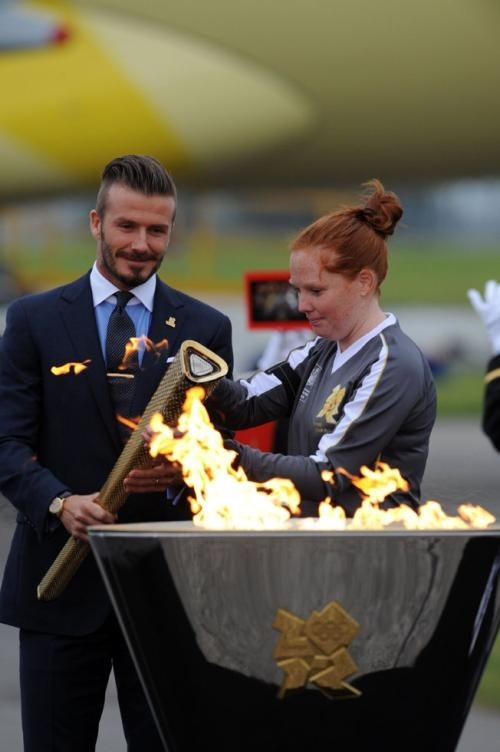fire: (146, 393, 491, 531), (141, 388, 303, 528)
